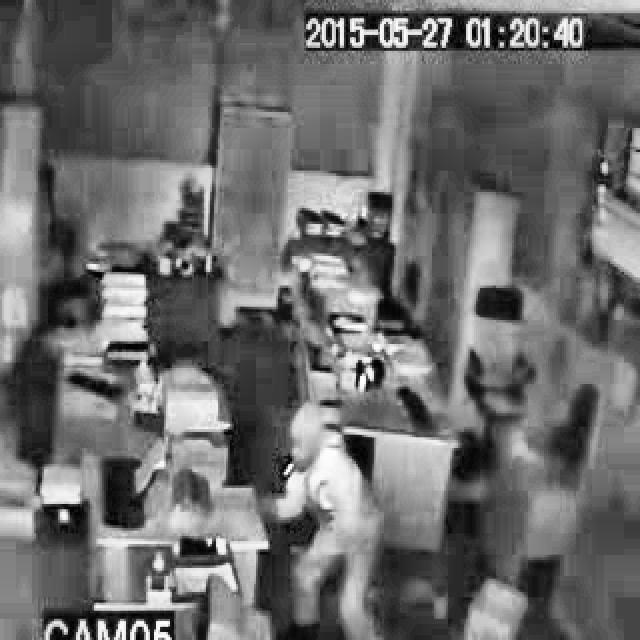burglary: (246, 397, 391, 640)
